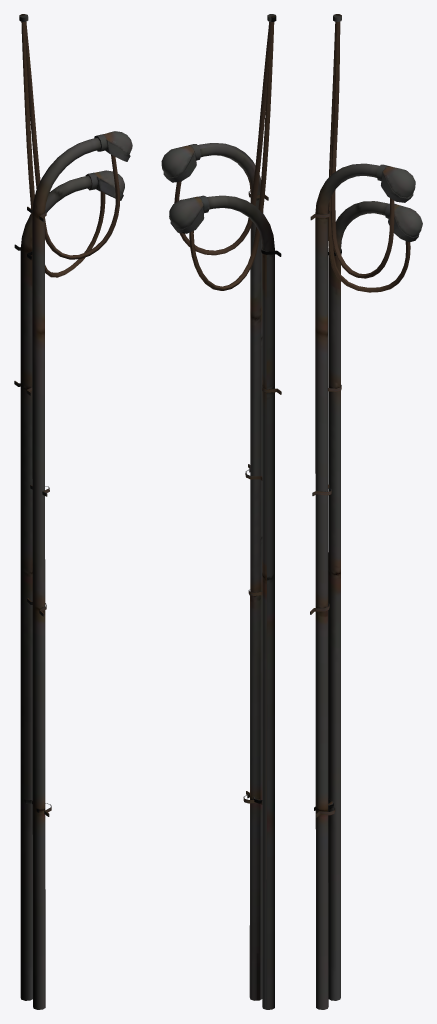
3 views of the same model, side by side, from view 1: azimuth 30°, elevation 25°; view 2: azimuth 210°, elevation 25°; view 3: azimuth 330°, elevation 25° (orthographic).
Visible parts, largest first — view 1: body0_model0_lod0_mesh0; view 2: body0_model0_lod0_mesh0; view 3: body0_model0_lod0_mesh0.
Boxes of the visible parts, <box> form: body0_model0_lod0_mesh0: <box>14,14,132,1009</box>; body0_model0_lod0_mesh0: <box>161,14,281,1009</box>; body0_model0_lod0_mesh0: <box>310,14,422,1009</box>.
Bounding box in the file's own units: 34.63 × 332 × 18.
Materials: 1 (1 with a texture image).
